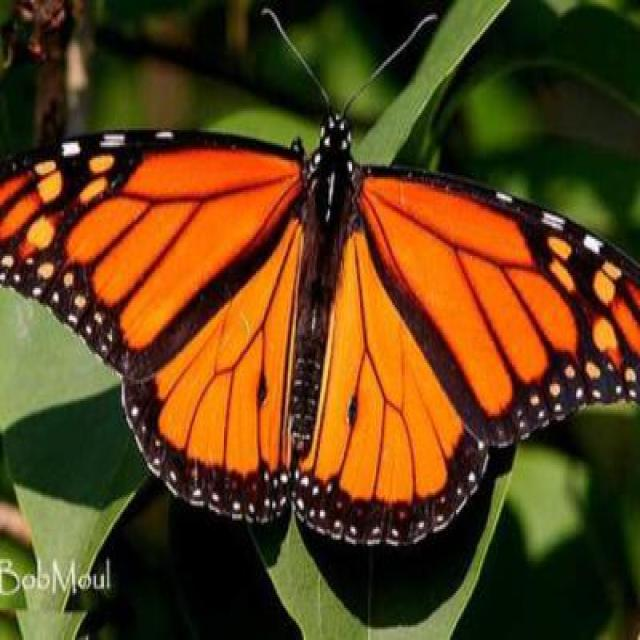antennae: (258, 7, 445, 123)
body: (290, 110, 352, 448)
insect: (1, 4, 640, 543)
wings: (297, 164, 640, 543), (2, 129, 301, 518)
